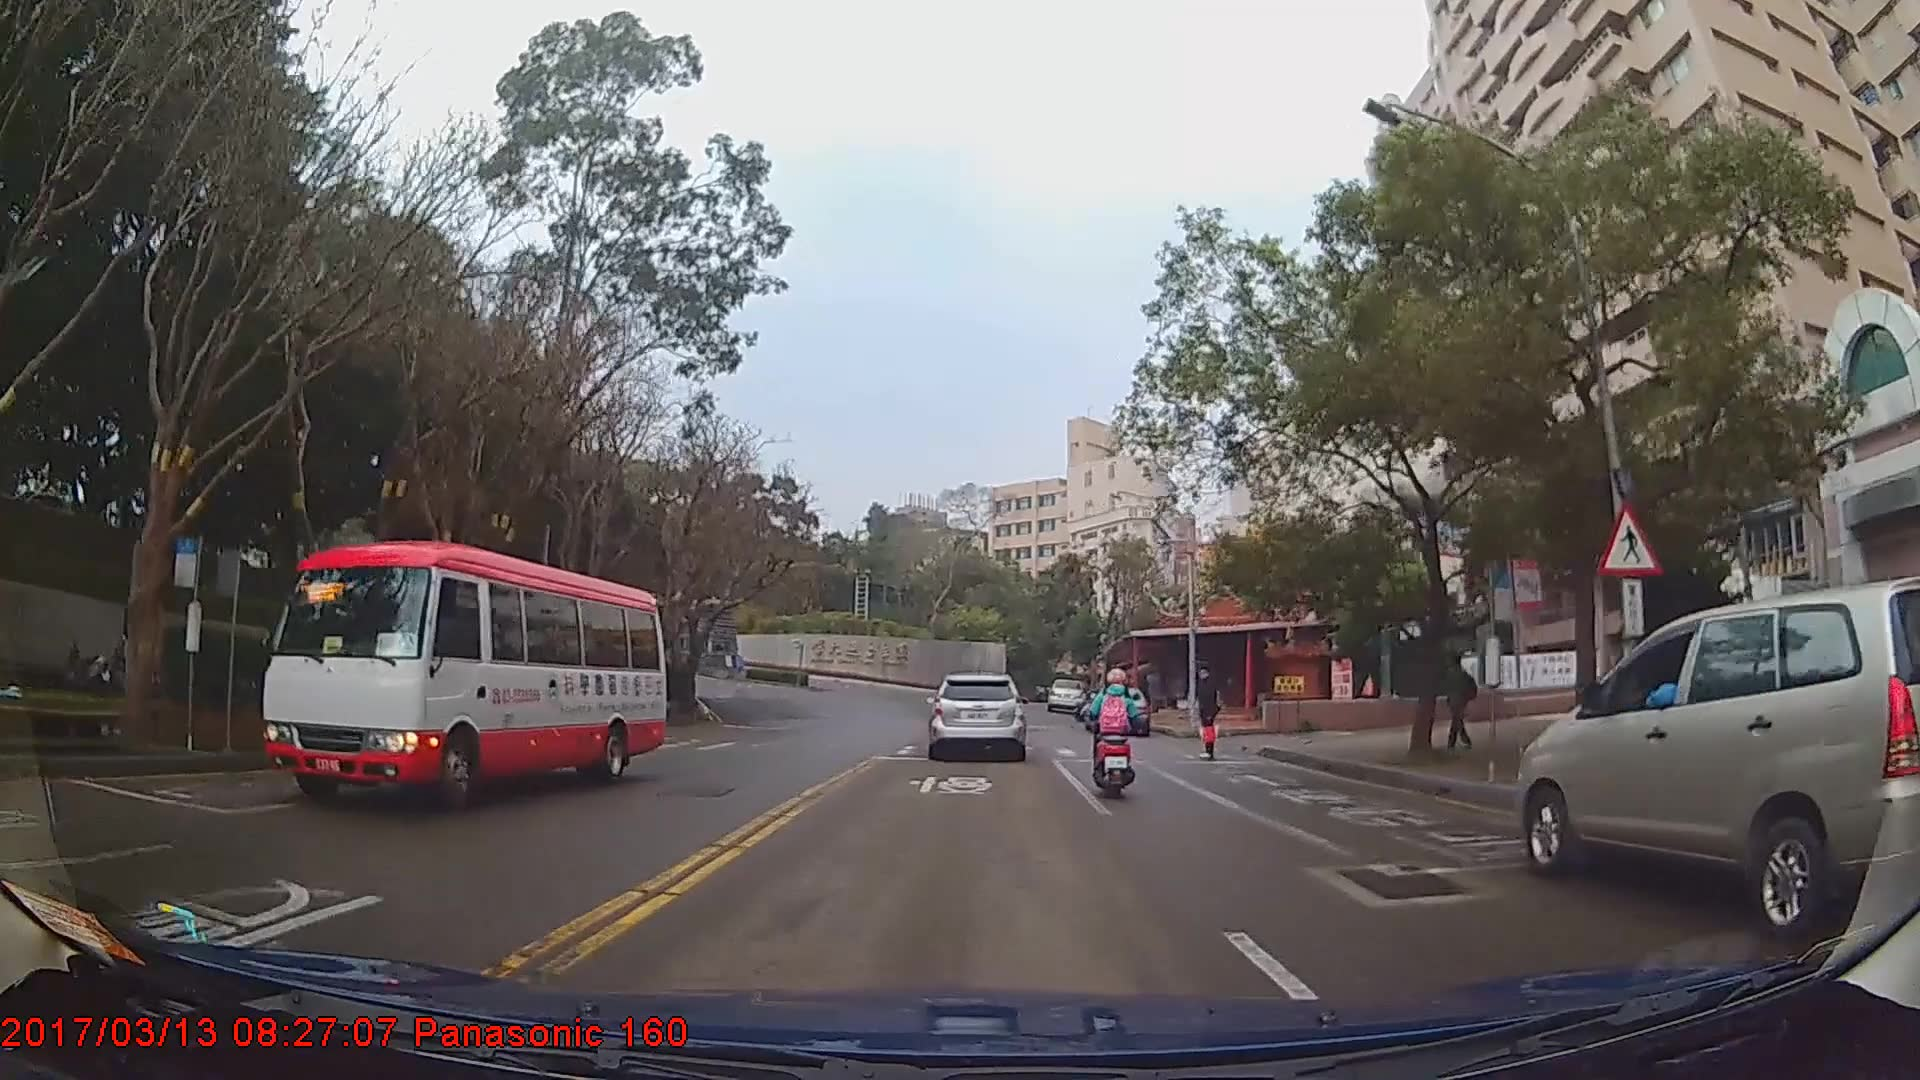pedestrian: (1438, 649, 1476, 748), (1194, 666, 1224, 762)
rider: (1082, 667, 1140, 799)
vehicle: (1516, 572, 1918, 940), (257, 539, 667, 815), (924, 671, 1027, 759), (1045, 677, 1084, 711)
